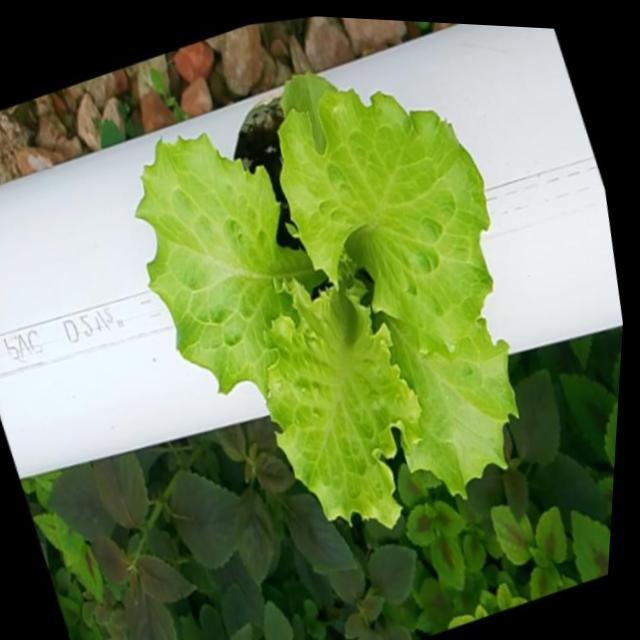Baby: (141, 87, 522, 541)
